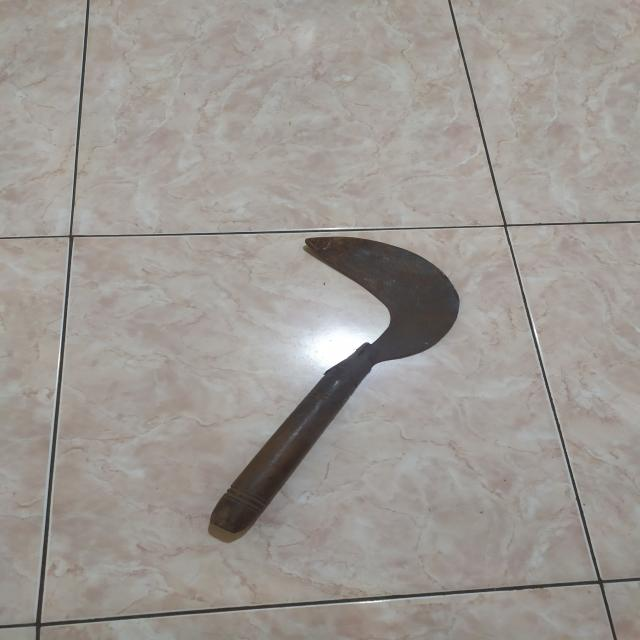Celurit: (210, 236, 462, 537)
